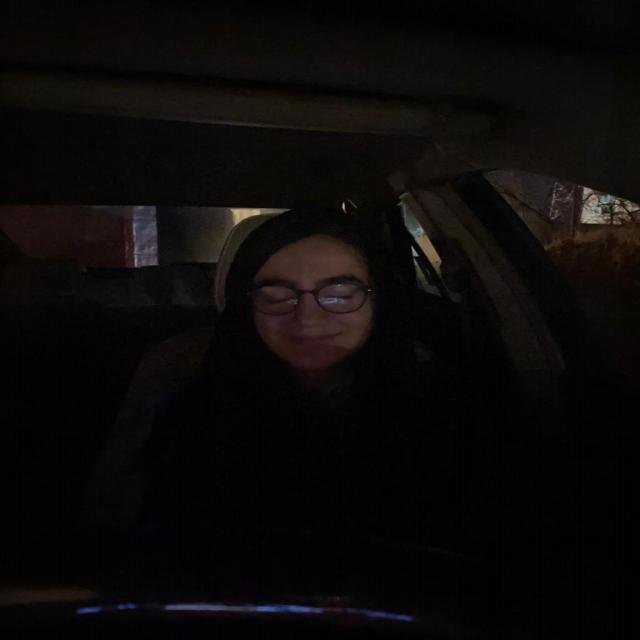drowsy: (234, 210, 392, 381)
